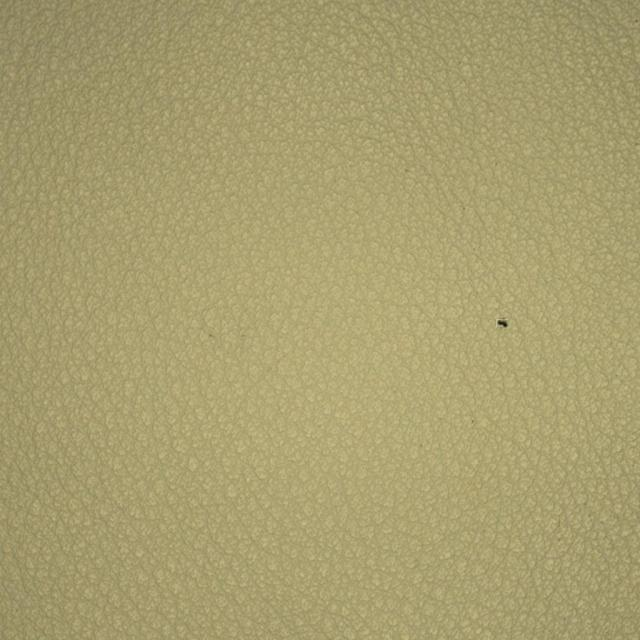Hole: (443, 217, 562, 427)
